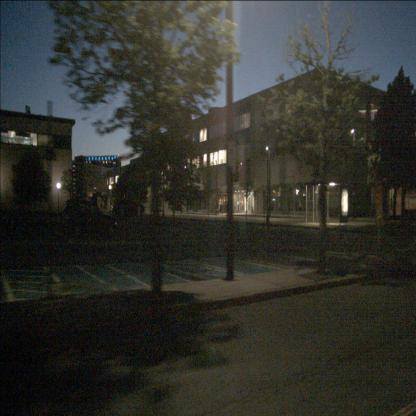vehicle-car: (62, 199, 119, 240)
